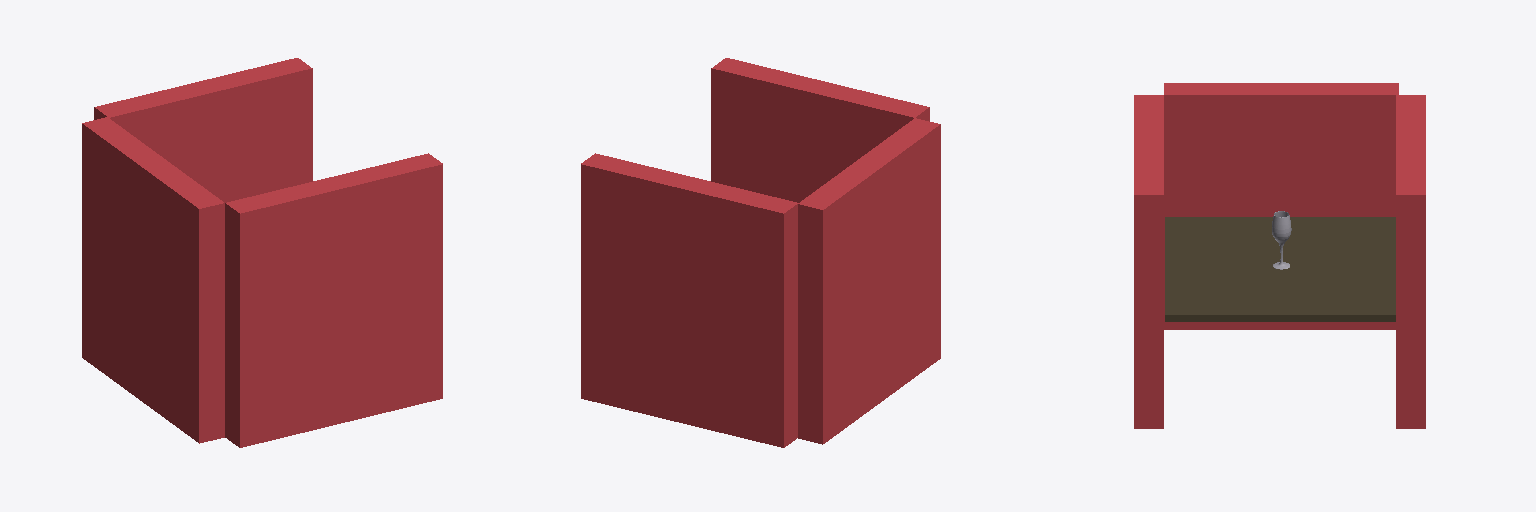
File: WineGlasses7.obj
3 renders of one model, left to right at view 1: azimuth 30°, elevation 25°; view 2: azimuth 150°, elevation 25°; view 3: azimuth 270°, elevation 25°, orthographic.
Visible parts, largest first — view 1: Cube.002_Cube.007, Cube.003_Cube.006, Cube.001_Cube.004; view 2: Cube.001_Cube.004, Cube.003_Cube.006, Cube.002_Cube.007; view 3: Cube.003_Cube.006, Plane_Plane.004, Cube.002_Cube.007, Cube.001_Cube.004, Circle.
Boxes of the visible parts, x1=… form: Cube.002_Cube.007: x1=225, y1=153, x2=442, y2=447; Cube.003_Cube.006: x1=82, y1=117, x2=224, y2=443; Cube.001_Cube.004: x1=94, y1=58, x2=312, y2=202; Cube.001_Cube.004: x1=581, y1=153, x2=797, y2=447; Cube.003_Cube.006: x1=798, y1=118, x2=940, y2=444; Cube.002_Cube.007: x1=711, y1=58, x2=929, y2=202; Cube.003_Cube.006: x1=1164, y1=83, x2=1398, y2=329; Plane_Plane.004: x1=1165, y1=217, x2=1395, y2=321; Cube.002_Cube.007: x1=1134, y1=95, x2=1163, y2=428; Cube.001_Cube.004: x1=1396, y1=95, x2=1425, y2=428; Circle: x1=1272, y1=211, x2=1291, y2=269.
Bounding box in the file's own units: 17.93 × 17.53 × 19.73.